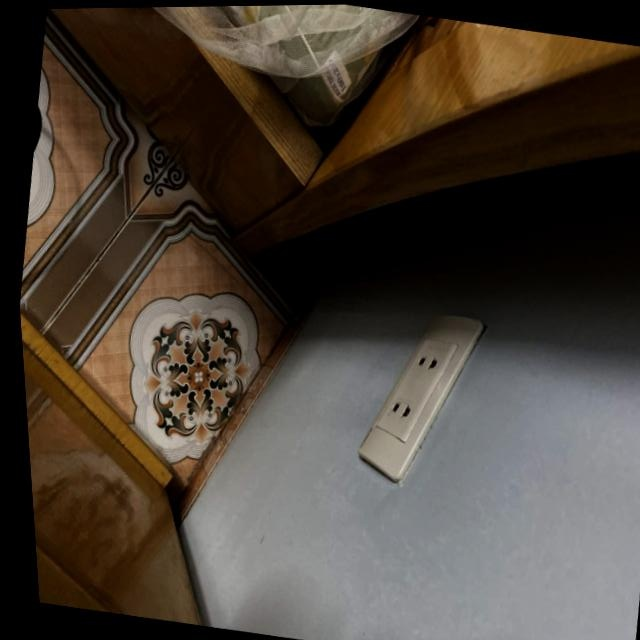outlet: (344, 300, 499, 495)
